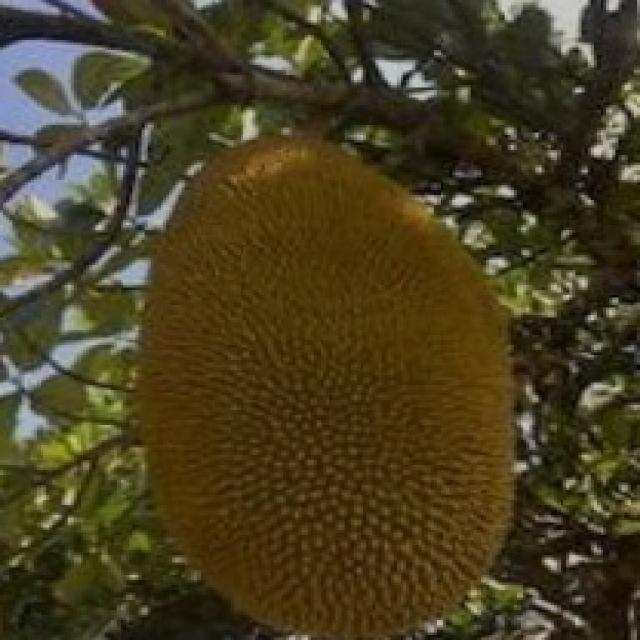Fruit: (212, 222, 572, 640), (108, 103, 557, 405)
